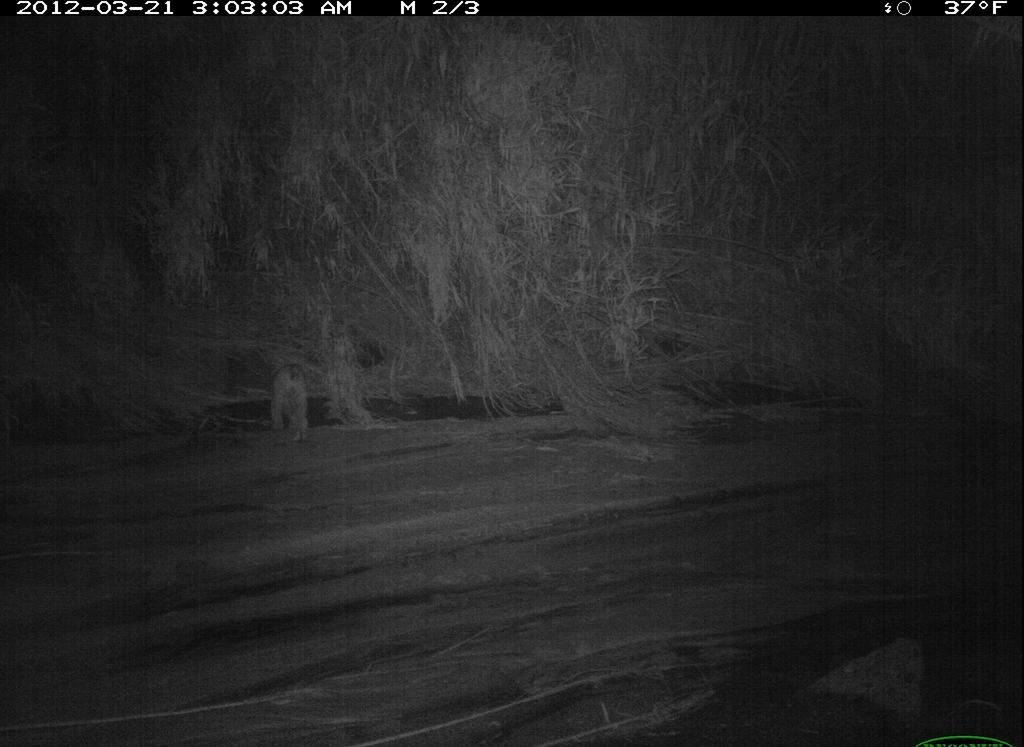bobcat: (255, 352, 325, 451)
